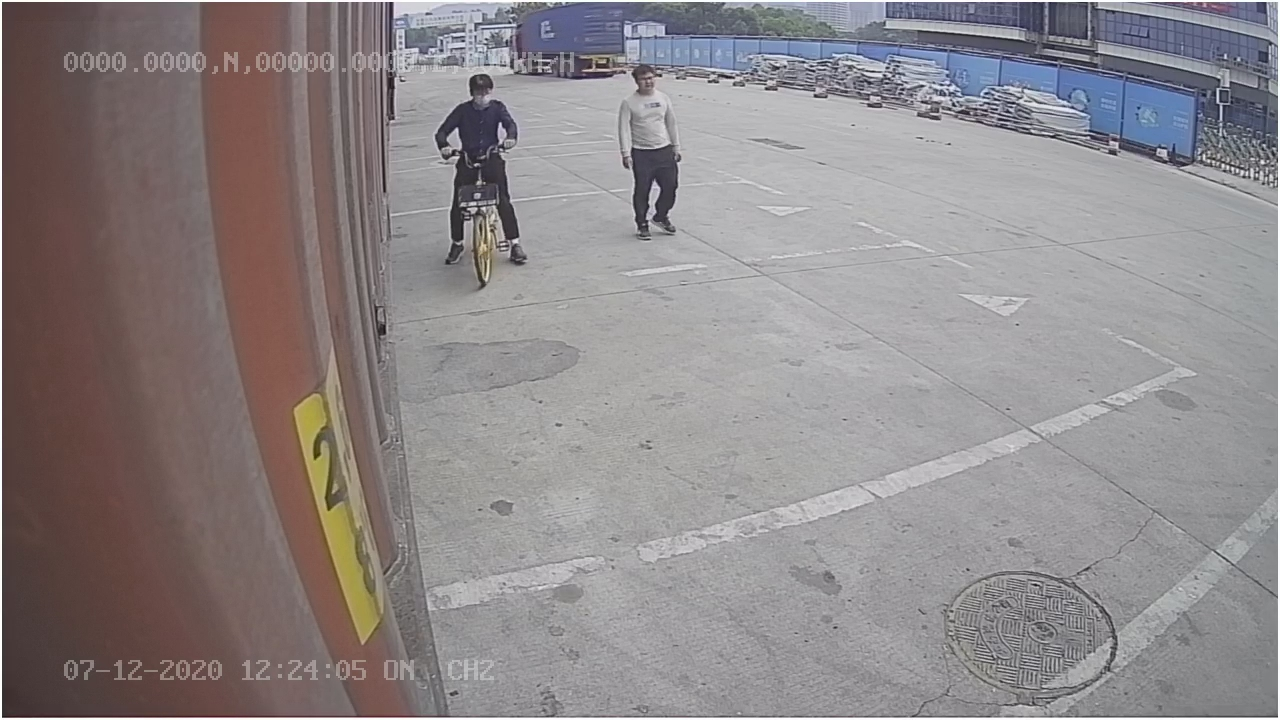person: (611, 62, 688, 243)
